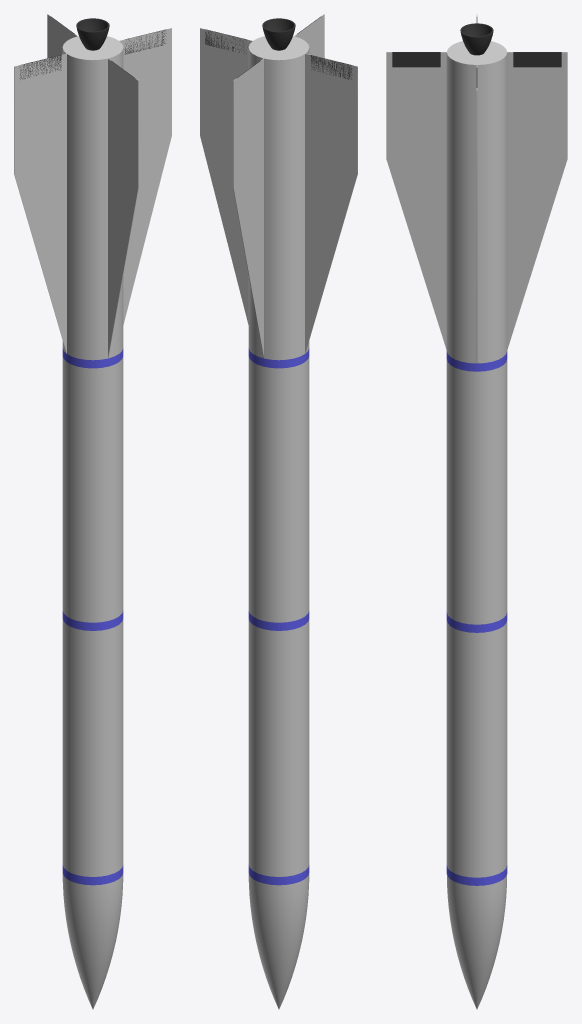
The model's file is missle1.obj.
3 renders of one model, left to right at view 1: azimuth 30°, elevation 25°; view 2: azimuth 150°, elevation 25°; view 3: azimuth 270°, elevation 25°, orthographic.
Visible parts, largest first — view 1: Material2.009, Material2.010, Material2.008; view 2: Material2.009, Material2.010, Material2.008; view 3: Material2.009, Material2.010, Material2.008.
Part boxes in pixels (bbox=[...]): Material2.009: bbox=[14, 14, 171, 1009]; Material2.010: bbox=[19, 16, 166, 79]; Material2.008: bbox=[62, 348, 123, 885]; Material2.009: bbox=[200, 14, 357, 1009]; Material2.010: bbox=[205, 16, 352, 79]; Material2.008: bbox=[248, 348, 309, 885]; Material2.009: bbox=[386, 14, 567, 1009]; Material2.010: bbox=[392, 17, 561, 87]; Material2.008: bbox=[446, 351, 507, 885].
Bounding box in the file's own units: 23.62 × 141 × 23.62.
